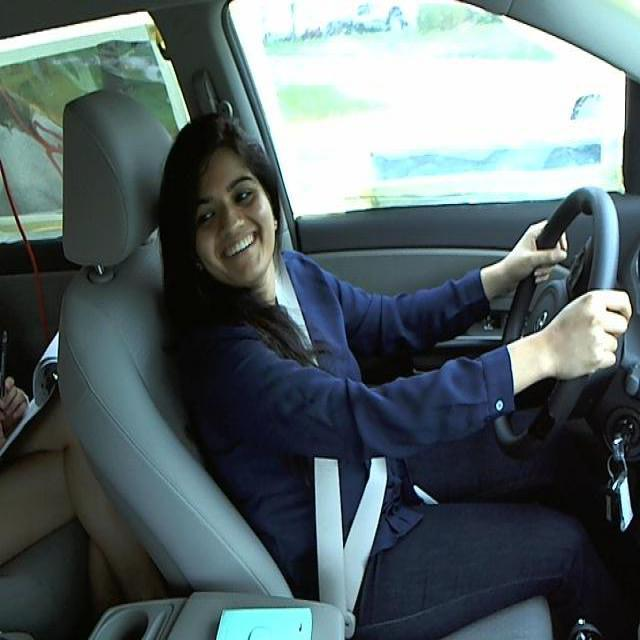seatbelt: (280, 300, 386, 608)
